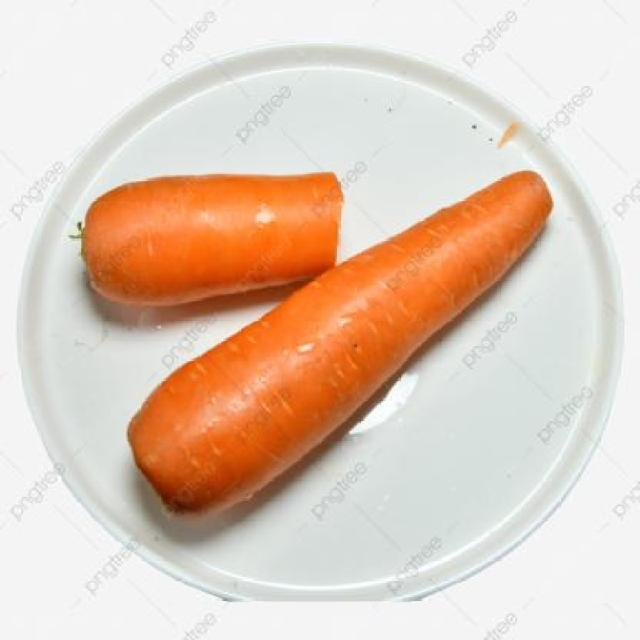carrot: (124, 167, 562, 527), (76, 162, 345, 302)
